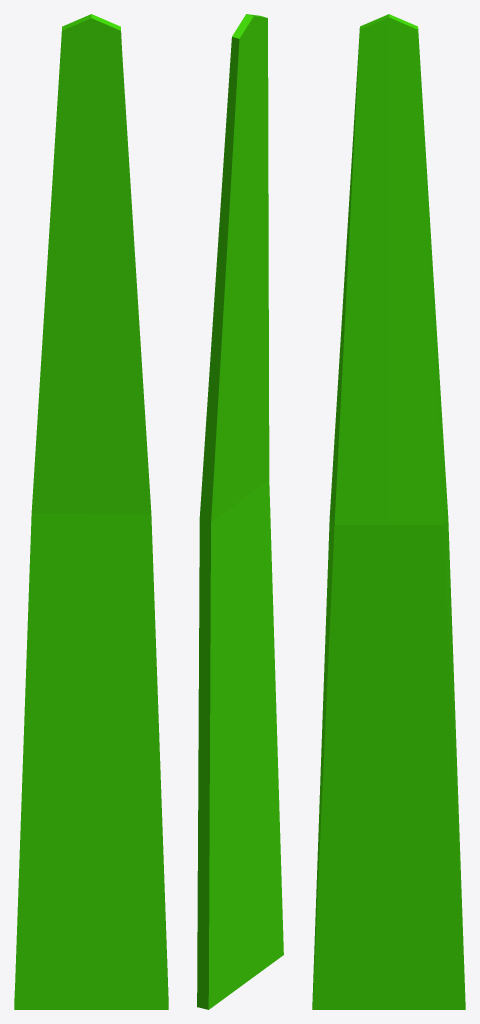
Rendered from Hierba4.fbx.
The picture shows the model from 3 angles, left to right: view 1: azimuth 90°, elevation 25°; view 2: azimuth 150°, elevation 25°; view 3: azimuth 270°, elevation 25°; orthographic projection. The views are drawn at different scales.
Visible parts, largest first — view 1: Plane.009; view 2: Plane.009; view 3: Plane.009.
Part boxes in pixels (left/top/right/bottom): Plane.009: left=14, top=14, right=168, bottom=1009; Plane.009: left=197, top=14, right=283, bottom=1009; Plane.009: left=312, top=14, right=465, bottom=1009.
Size of the model in its own units: 0.7639 by 25.96 by 3.65.
